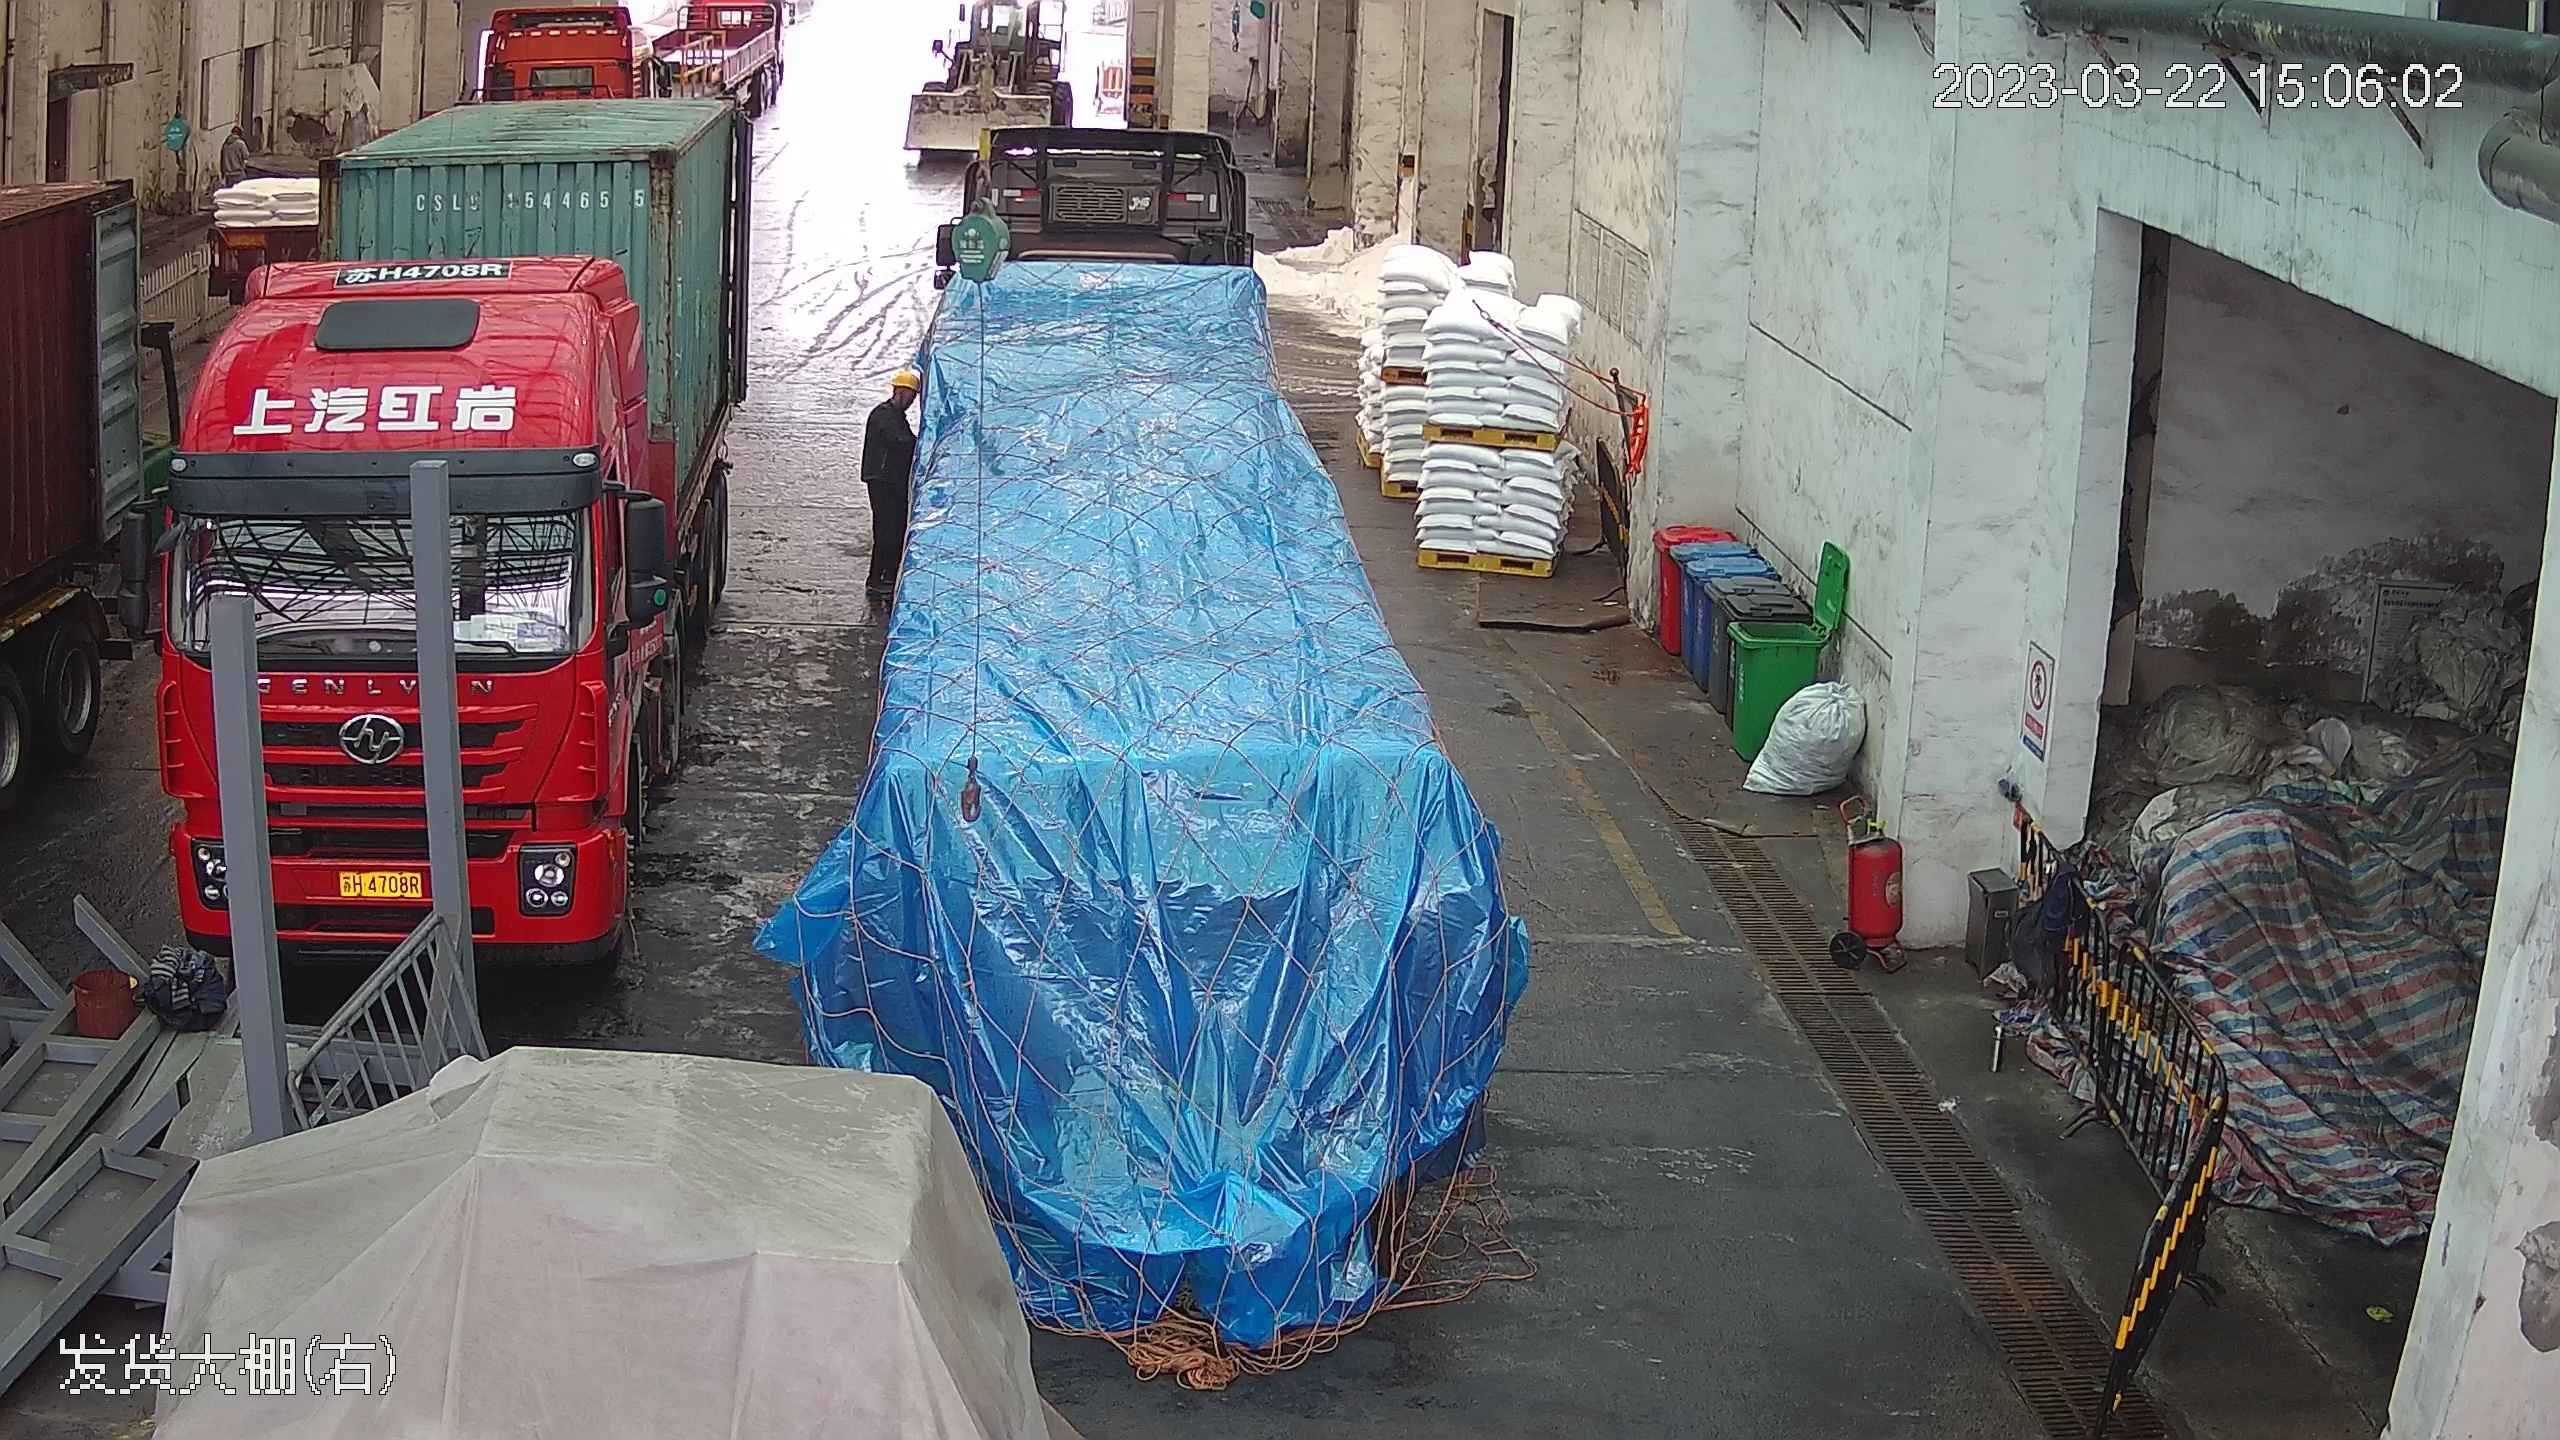head: (862, 364, 923, 439)
helmet: (886, 365, 922, 392)
people: (853, 362, 925, 621)
truck: (793, 10, 1565, 1404), (157, 14, 765, 962), (0, 113, 159, 1026)
